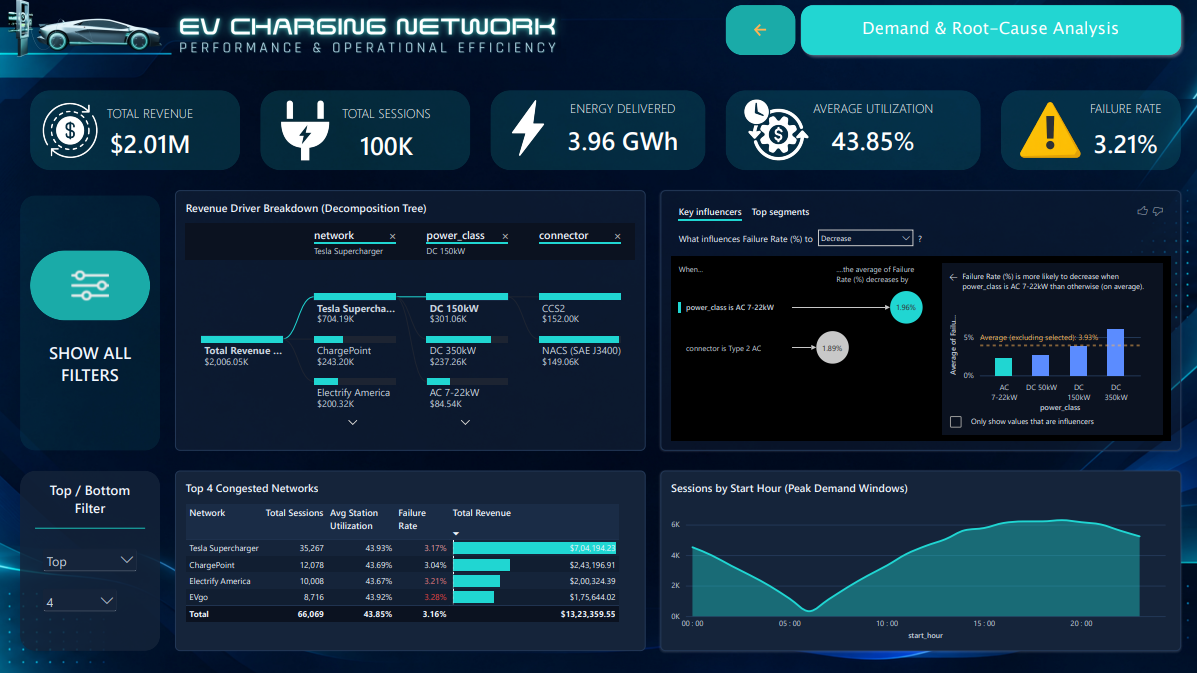

The page's visual inventory and layout, read from the dashboard file:
{"tool":"powerbi","page":{"name":"Demand & Root-Cause Analysis","canvas":[1920,1080],"ordinal":2},"visuals":[{"type":"shape","box":[784,144,344,128],"z":0},{"type":"shape","box":[416,144,336,128],"z":1000},{"type":"shape","box":[1600,144,288,128],"z":2000},{"type":"shape","box":[1160,144,408,128],"z":3000},{"type":"shape","box":[48,144,336,128],"z":4000},{"type":"shape","box":[32,752,224,288],"z":5000},{"type":"shape","box":[32,312,224,408],"z":6000},{"type":"card","title":"TOTAL REVENUE","fields":{"Values":["Calculated_table.Total Revenue ($)"]},"box":[136,152,208,112],"z":7000},{"type":"card","title":"TOTAL SESSIONS","fields":{"Values":["Calculated_table.Total Sessions"]},"box":[521.6,152,192,120],"z":8000},{"type":"card","title":"AVERAGE UTILIZATION","fields":{"Values":["Calculated_table.Avg Station Utilization (%)"]},"box":[1264,144,264,120],"z":9000},{"type":"card","title":"FAILURE RATE","fields":{"Values":["Calculated_table.Failure Rate (%)"]},"box":[1720,144,160,128],"z":10000},{"type":"pageNavigator","box":[1272,0,624,96],"z":11000},{"type":"actionButton","title":"Show Slicers","box":[48,400,192,112],"z":15000},{"type":"textbox","title":"SHOW ALL FILTERS","box":[48,544,192,128],"z":16000},{"type":"image","box":[56,160,112,96],"z":17000},{"type":"image","box":[792,160,104,88],"z":18000},{"type":"image","box":[1184,152,112,112],"z":19000},{"type":"image","box":[1632,152,96,112],"z":20000},{"type":"actionButton","box":[1160,8,112,80],"z":21000},{"type":"decompositionTreeVisual","title":"Revenue Driver Breakdown (Decomposition Tree)","fields":{"Analyze":["Calculated_table.Total Revenue ($)"],"ExplainBy":["charging_networks.network","power_classes.power_class","connector_types.connector"]},"box":[280,304,752,416],"z":22000},{"type":"tableEx","fields":{"Values":["charging_networks.network","Calculated_table.Total Sessions","Calculated_table.Avg Station Utilization (%)","Calculated_table.Failure Rate (%)","Calculated_table.Total Revenue ($)"]},"box":[280,752,752,288],"z":23000},{"type":"slicer","fields":{"Values":["Rank_N_tbl.Rank_N_tbl"]},"box":[64,936,128,48],"z":24000},{"type":"slicer","fields":{"Values":["Top_Bottom_tbl.Selection"]},"box":[64,872,160,64],"z":25000},{"type":"card","title":"ENERGY DELIVERED","fields":{"Values":["Calculated_table.Total Energy Delivered (MWh)"]},"box":[864,144,264,120],"z":26000},{"type":"areaChart","title":"Sessions by Start Hour (Peak Demand Windows)","fields":{"Category":["charging_sessions.start_hour"],"Y":["Calculated_table.Total Sessions"]},"box":[1056,752,832,288],"z":27000},{"type":"keyDriversVisual","fields":{"ExplainBy":["charging_networks.network","power_classes.power_class","connector_types.connector","charging_sessions.Temp Band"],"Target":["Calculated_table.Failure Rate (%)"]},"box":[1056,304,832,416],"z":28000},{"type":"textbox","title":"Top / Bottom Filter","box":[72,768,144,64],"z":29000},{"type":"shape","box":[56,824,176,40],"z":30000},{"type":"image","box":[440,160,96,96],"z":31000}]}

Visuals, with their boxes in screenshot pixels (x1, y1, x2, y2), scaled from the page's 1920x1080 canvas onto the 1197x673 screenshot:
shape: Rect(489, 90, 703, 169)
shape: Rect(259, 90, 469, 169)
shape: Rect(998, 90, 1177, 169)
shape: Rect(723, 90, 978, 169)
shape: Rect(30, 90, 239, 169)
shape: Rect(20, 469, 160, 648)
shape: Rect(20, 194, 160, 449)
"TOTAL REVENUE" card: Rect(85, 95, 214, 165)
"TOTAL SESSIONS" card: Rect(325, 95, 445, 169)
"AVERAGE UTILIZATION" card: Rect(788, 90, 953, 165)
"FAILURE RATE" card: Rect(1072, 90, 1172, 169)
pageNavigator: Rect(793, 0, 1182, 60)
"Show Slicers" actionButton: Rect(30, 249, 150, 319)
"SHOW ALL FILTERS" textbox: Rect(30, 339, 150, 419)
image: Rect(35, 100, 105, 160)
image: Rect(494, 100, 559, 155)
image: Rect(738, 95, 808, 165)
image: Rect(1017, 95, 1077, 165)
actionButton: Rect(723, 5, 793, 55)
"Revenue Driver Breakdown (Decomposition Tree)" decompositionTreeVisual: Rect(175, 189, 643, 449)
tableEx - charging_networks.network x Calculated_table.Total Sessions: Rect(175, 469, 643, 648)
slicer - Rank_N_tbl.Rank_N_tbl: Rect(40, 583, 120, 613)
slicer - Top_Bottom_tbl.Selection: Rect(40, 543, 140, 583)
"ENERGY DELIVERED" card: Rect(539, 90, 703, 165)
"Sessions by Start Hour (Peak Demand Windows)" areaChart: Rect(658, 469, 1177, 648)
keyDriversVisual - charging_networks.network x power_classes.power_class: Rect(658, 189, 1177, 449)
"Top / Bottom Filter" textbox: Rect(45, 479, 135, 518)
shape: Rect(35, 513, 145, 538)
image: Rect(274, 100, 334, 160)
